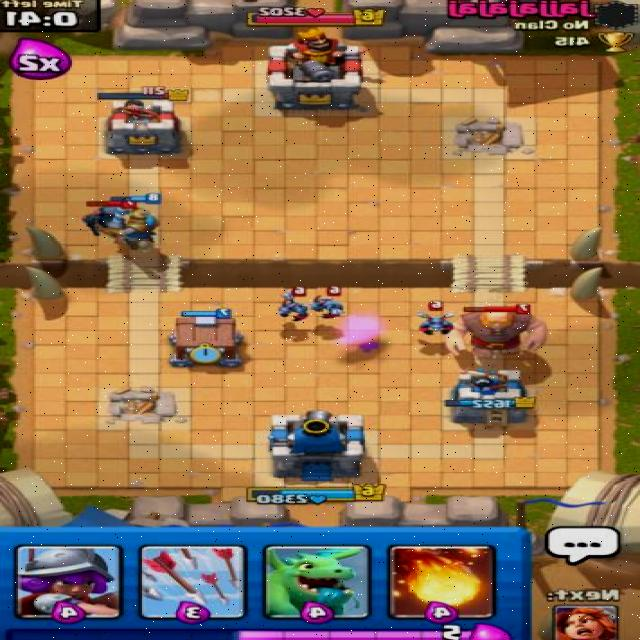Enemy-Giant: (444, 302, 550, 359)
Enemy-MiniPEKKA: (78, 197, 138, 237)
Enemy-Minion: (414, 299, 462, 337), (275, 286, 315, 323), (307, 287, 349, 320)
Player-GoblinCage: (160, 307, 250, 366)
Player-Prince: (96, 191, 173, 256)
